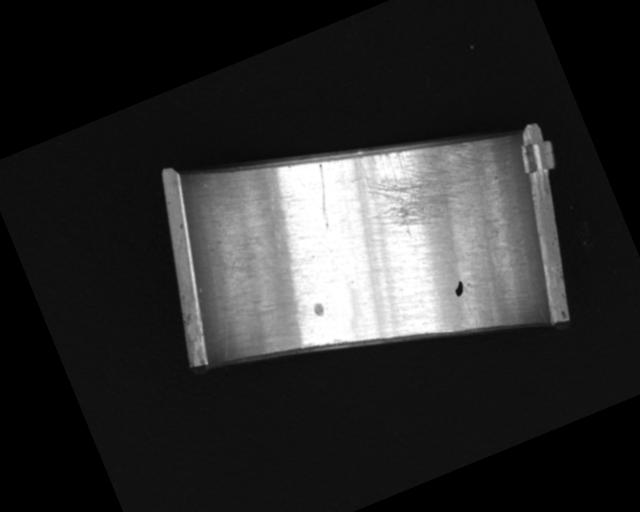blot: (451, 278, 467, 297)
bruise: (311, 301, 326, 318)
nick: (193, 260, 269, 360), (302, 162, 345, 229)
scratch: (346, 113, 493, 245)
